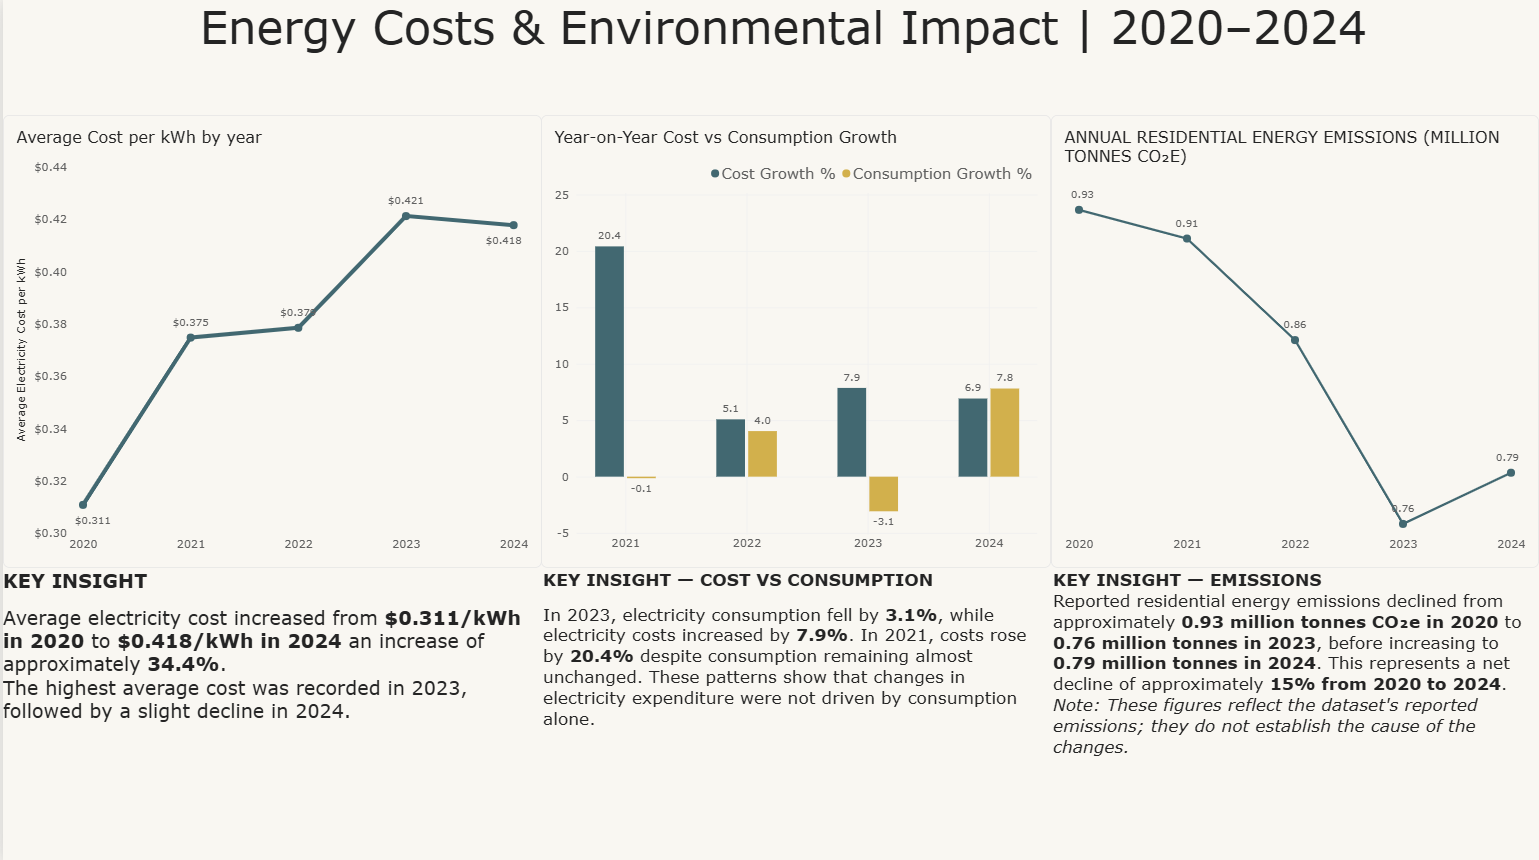

This screenshot's page, from the dashboard's own definition file:
{"tool":"powerbi","page":{"name":"Cost & Emissions Analysis","canvas":[1920,1080],"ordinal":2},"visuals":[{"type":"textbox","box":[9.2,0,1910.8,121.7],"z":0},{"type":"lineChart","fields":{"Category":["Energy Analysis.year"],"Y":["Energy Analysis.Average Cost per kWh"]},"box":[0,145.9,673.3,565.8],"z":1},{"type":"textbox","box":[0,711.7,673.3,302.1],"z":2},{"type":"clusteredColumnChart","title":"Year-on-Year Cost vs Consumption Growth","fields":{"Category":["Energy Analysis.year"],"Y":["Energy Analysis.Cost Growth %","Energy Analysis.Consumption Growth %"]},"box":[673.3,145.9,637.4,565.8],"z":3},{"type":"textbox","box":[675.8,711.7,637.4,302.1],"z":4},{"type":"lineChart","title":"ANNUAL RESIDENTIAL ENERGY EMISSIONS (MILLION TONNES CO₂E)","fields":{"Category":["Energy Analysis.year"],"Y":["Energy Analysis.Total Emissions (Million Tonnes)"]},"box":[1310,146,610,566],"z":5},{"type":"textbox","box":[1313.3,711.7,606.7,320],"z":6}]}

Visuals, with their boxes in screenshot pixels (x1, y1, x2, y2), scaled from the page's 1920x1080 canvas onto the 1539x860 screenshot:
textbox: bbox=[7, 0, 1538, 97]
lineChart - Energy Analysis.year x Energy Analysis.Average Cost per kWh: bbox=[0, 116, 540, 567]
textbox: bbox=[0, 567, 540, 807]
"Year-on-Year Cost vs Consumption Growth" clusteredColumnChart: bbox=[540, 116, 1051, 567]
textbox: bbox=[542, 567, 1053, 807]
"ANNUAL RESIDENTIAL ENERGY EMISSIONS (MILLION TONNES CO₂E)" lineChart: bbox=[1050, 116, 1538, 567]
textbox: bbox=[1053, 567, 1538, 822]
